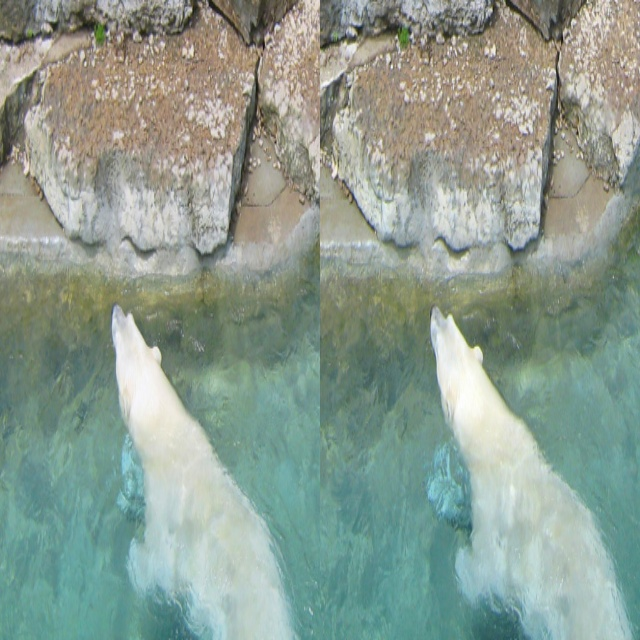Polar bear: (429, 309, 630, 638), (114, 304, 295, 638)
